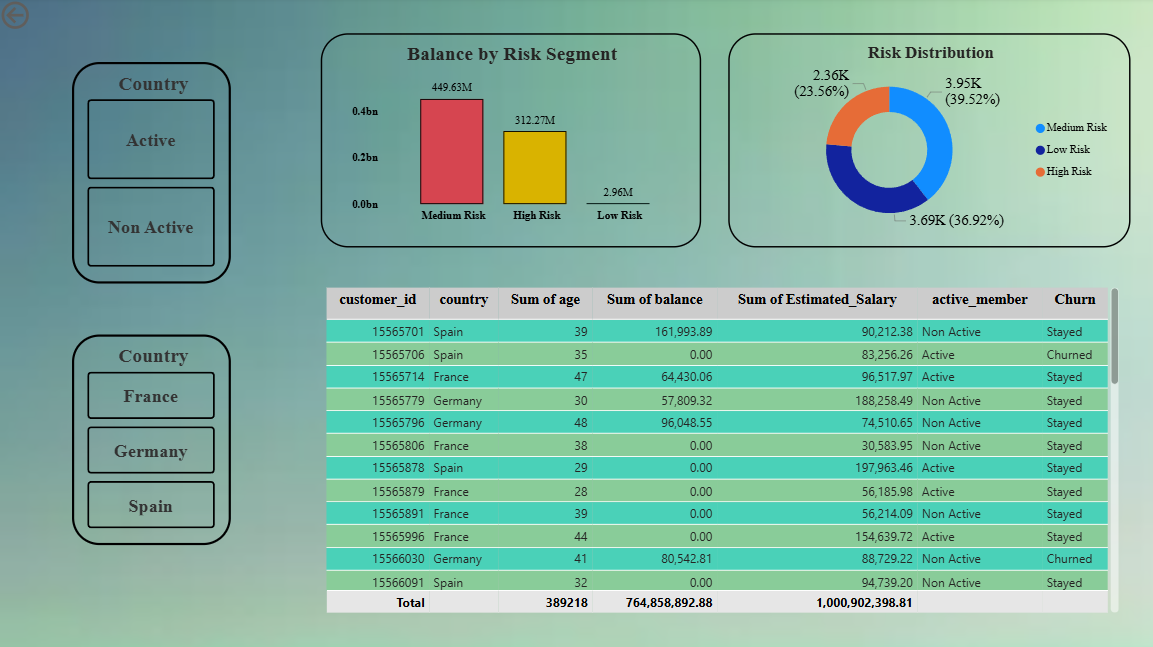

What the dashboard file says about the page in this screenshot:
{"tool":"powerbi","page":{"name":"Risk & Financial Analysis","canvas":[1280,720],"ordinal":3},"visuals":[{"type":"donutChart","title":"Risk Distribution","fields":{"Category":["Bank Customer Churn Prediction.Risk Category"],"Y":["CountNonNull(Bank Customer Churn Prediction.customer_id)"]},"box":[803.4,39.9,441.6,235.4],"z":0},{"type":"columnChart","title":"Balance by Risk Segment","fields":{"Category":["Bank Customer Churn Prediction.Risk Category"],"Y":["Sum(Bank Customer Churn Prediction.balance)"]},"box":[355,39.9,417.3,235.4],"z":1000},{"type":"tableEx","fields":{"Values":["Bank Customer Churn Prediction.customer_id","Bank Customer Churn Prediction.country","Sum(Bank Customer Churn Prediction.age)","Sum(Bank Customer Churn Prediction.balance)","Sum(Bank Customer Churn Prediction.estimated_salary)","Bank Customer Churn Prediction.active_member","Bank Customer Churn Prediction.churn"]},"box":[355,314.2,881.2,366.7],"z":2000},{"type":"actionButton","box":[0,0,100,40],"z":3000},{"type":"advancedSlicerVisual","title":"Country","fields":{"Values":["Bank Customer Churn Prediction.country"]},"box":[82.7,370.6,174.1,231.5],"z":4000},{"type":"advancedSlicerVisual","title":"Country","fields":{"Values":["Bank Customer Churn Prediction.active_member"]},"box":[82.7,71,174.1,243.2],"z":5000}]}

Visuals, with their boxes in screenshot pixels (x1, y1, x2, y2), scaled from the page's 1280x720 canvas onto the 1153x647 screenshot:
"Risk Distribution" donutChart: rect(724, 36, 1121, 247)
"Balance by Risk Segment" columnChart: rect(320, 36, 696, 247)
tableEx - Bank Customer Churn Prediction.customer_id x Bank Customer Churn Prediction.country: rect(320, 282, 1114, 612)
actionButton: rect(0, 0, 90, 36)
"Country" advancedSlicerVisual: rect(74, 333, 231, 541)
"Country" advancedSlicerVisual: rect(74, 64, 231, 282)
